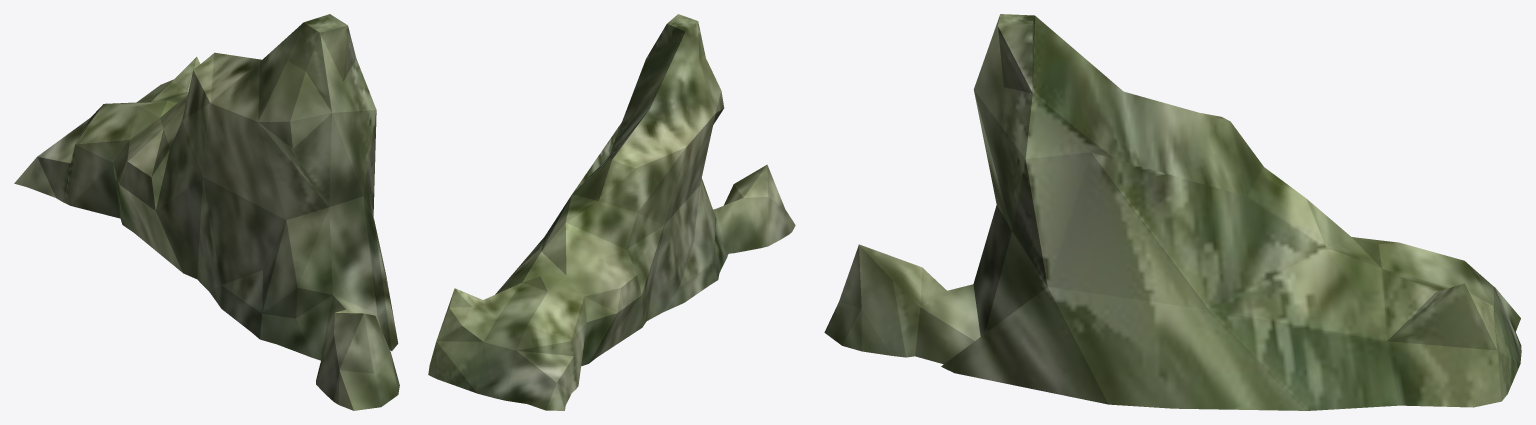
3 views of the same model, side by side, from view 1: azimuth 30°, elevation 25°; view 2: azimuth 150°, elevation 25°; view 3: azimuth 270°, elevation 25° (orthographic). The views are drawn at different scales.
Size of the model in its own units: 0.6401 by 0.9654 by 1.84.
1 material, 1 textured.
